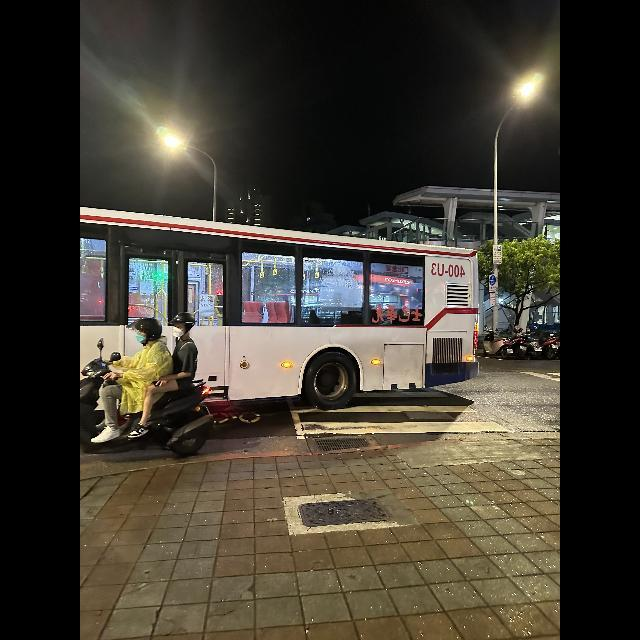sidewalk: (283, 362, 518, 446)
